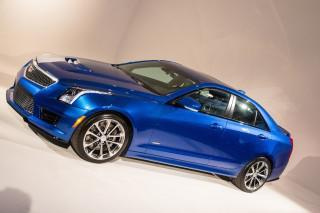cadillac: (27, 64, 38, 75)
